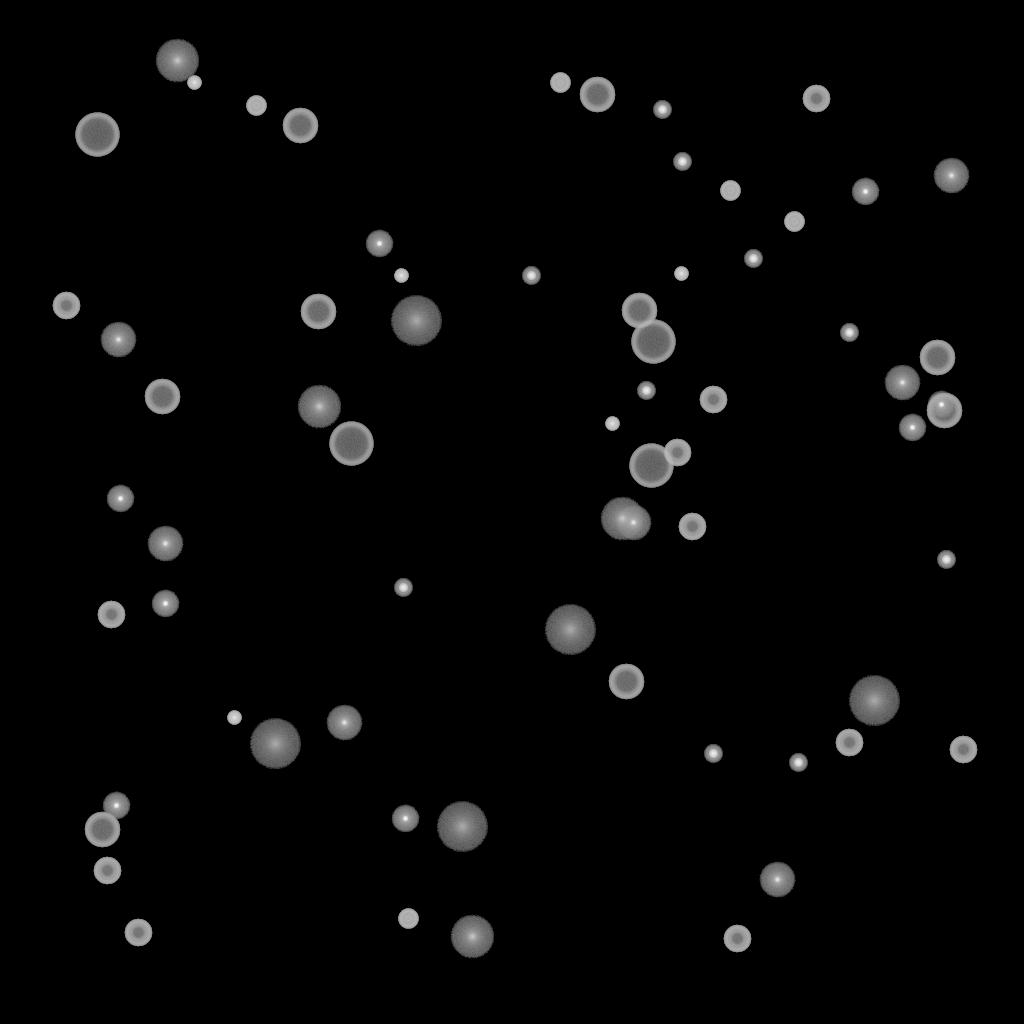depth:-10: (851, 178, 879, 206), (927, 391, 955, 419), (898, 414, 926, 442), (151, 590, 179, 618), (365, 230, 393, 258), (102, 792, 130, 820), (106, 485, 134, 513), (391, 805, 419, 833)
depth:-20: (937, 551, 955, 569), (789, 754, 807, 772), (522, 267, 540, 285), (704, 745, 722, 763), (744, 250, 762, 268), (637, 382, 655, 400), (840, 324, 858, 342), (673, 153, 691, 171), (394, 579, 412, 597), (653, 101, 671, 119)
depth:-30: (394, 269, 408, 283), (227, 711, 241, 725), (605, 417, 619, 431), (674, 267, 688, 281), (187, 76, 201, 90)
depth:-40: (720, 181, 740, 201), (550, 73, 570, 93), (398, 909, 418, 929), (246, 96, 266, 116), (784, 212, 804, 232)
depth:-50: (802, 85, 830, 113), (723, 925, 751, 953), (97, 601, 125, 629), (663, 439, 691, 467), (678, 513, 706, 541), (699, 386, 727, 414), (93, 857, 121, 885), (835, 729, 863, 757), (124, 919, 152, 947), (52, 292, 80, 320), (949, 736, 977, 764)
depth:-60: (144, 379, 180, 415), (84, 812, 120, 848), (926, 393, 962, 429), (919, 340, 955, 376), (282, 108, 318, 144), (608, 664, 644, 700), (579, 77, 615, 113), (621, 293, 657, 329), (300, 294, 336, 330)
depth:-70: (631, 320, 675, 364), (629, 444, 673, 488), (329, 422, 373, 466), (75, 113, 119, 157)
depth:0: (615, 505, 651, 541), (100, 322, 136, 358), (326, 705, 362, 741), (147, 526, 183, 562), (933, 158, 969, 194), (759, 862, 795, 898), (884, 365, 920, 401)
depth:10: (155, 39, 199, 83), (600, 497, 644, 541), (450, 915, 494, 959), (297, 385, 341, 429)
depth:20: (249, 719, 301, 769), (544, 605, 596, 655), (848, 676, 900, 726), (390, 296, 442, 346), (436, 802, 488, 852)
